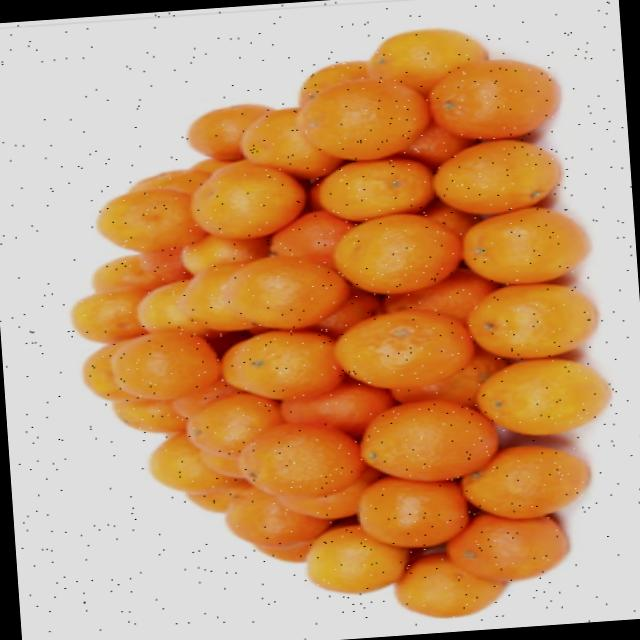orange: (331, 296, 478, 401), (434, 51, 576, 152), (329, 206, 471, 300), (300, 67, 436, 164), (462, 437, 604, 528), (358, 394, 498, 485), (481, 348, 613, 443), (456, 202, 594, 290), (439, 132, 572, 218), (480, 277, 604, 369), (229, 247, 350, 331), (449, 510, 579, 587), (228, 321, 342, 408), (354, 470, 472, 552), (316, 152, 439, 230), (112, 328, 224, 403), (182, 166, 289, 244), (362, 22, 482, 90), (303, 525, 409, 600), (245, 427, 344, 495), (234, 112, 336, 176), (95, 190, 196, 254), (256, 202, 358, 265), (397, 558, 497, 618), (196, 389, 280, 454), (215, 494, 322, 545), (87, 242, 186, 294), (140, 432, 217, 488), (188, 100, 264, 155), (75, 287, 146, 340)
